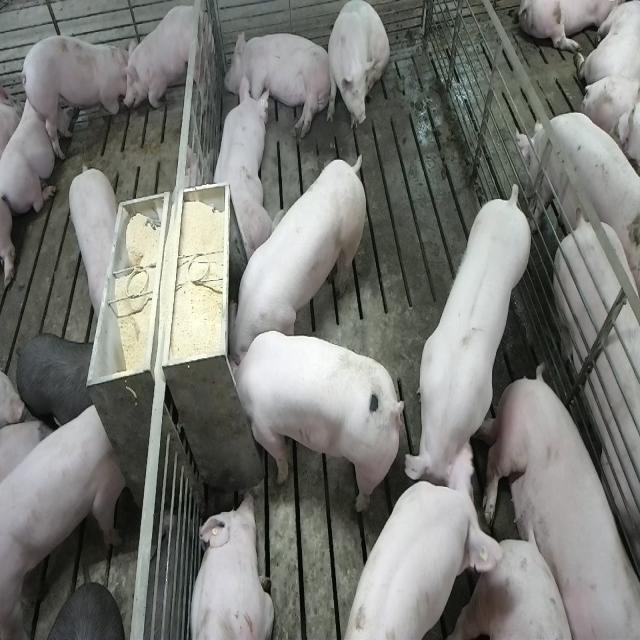Feeding: (222, 330, 396, 516), (229, 147, 371, 363)
Lateral_lying: (475, 366, 637, 640), (223, 28, 333, 140)
Sitting: (325, 2, 389, 138)
Standing: (402, 183, 534, 510), (552, 216, 640, 595), (1, 397, 126, 635), (347, 472, 504, 640), (520, 108, 640, 278), (20, 30, 130, 158), (121, 1, 211, 129), (66, 161, 120, 322), (15, 331, 95, 428)
Sternal_lying: (186, 490, 274, 640), (209, 75, 277, 259), (1, 76, 59, 215)
